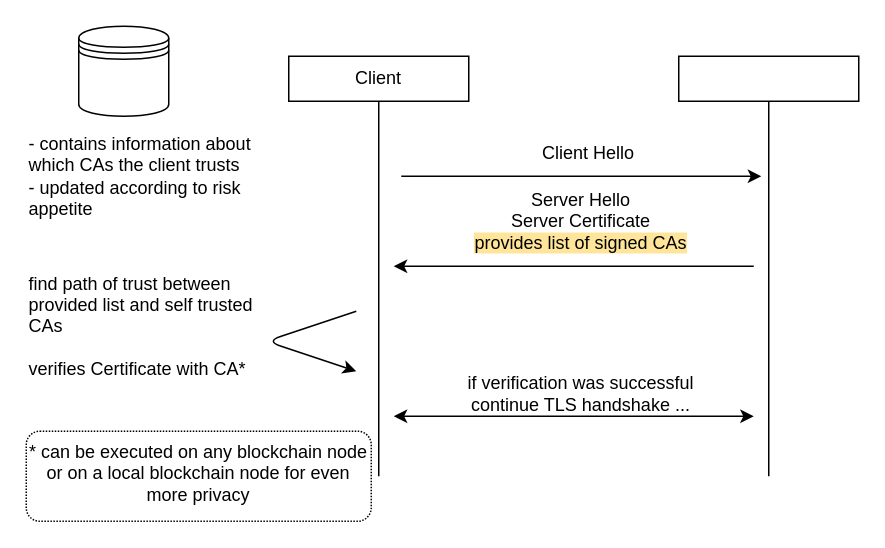
This 885x548 diagram has some shape labels left out. Here are the shapes that lost their labels. From the top down, the centre of each, then its label:
At point (123, 70): "trust graph".
At point (768, 78): "Domain".
